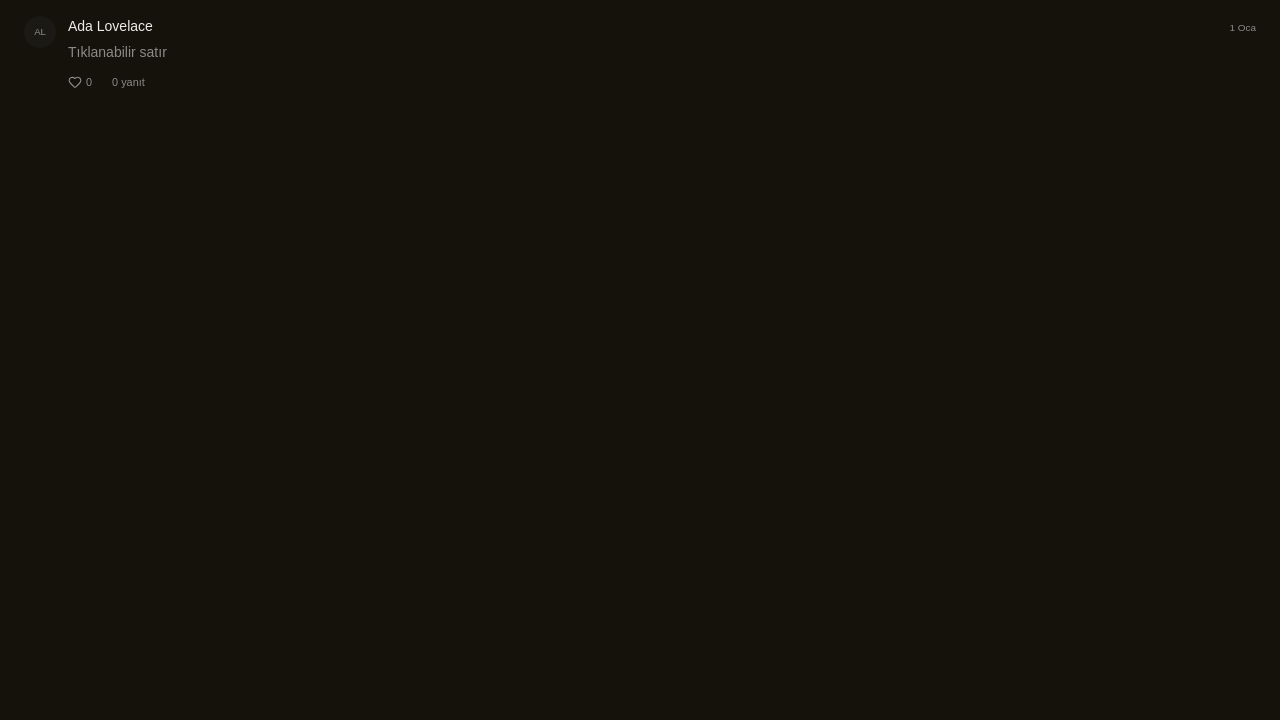
Test: RecentPostsPreview › opens the thread popup (with the full text) when the row itself is clicked
Click the text "Tıklanabilir satır" at coordinates (117, 52), box left=68, top=44, right=167, bottom=60
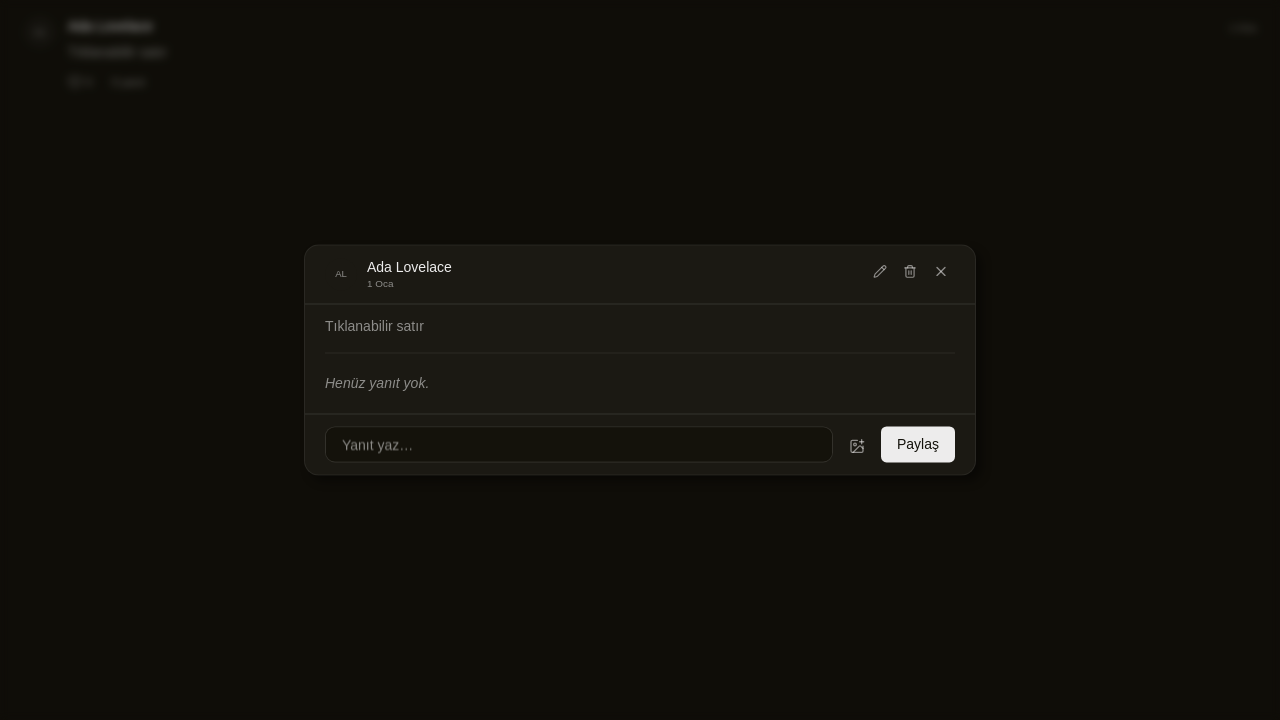
Expected: the dialog is shown, left=304, top=244, right=976, bottom=476
